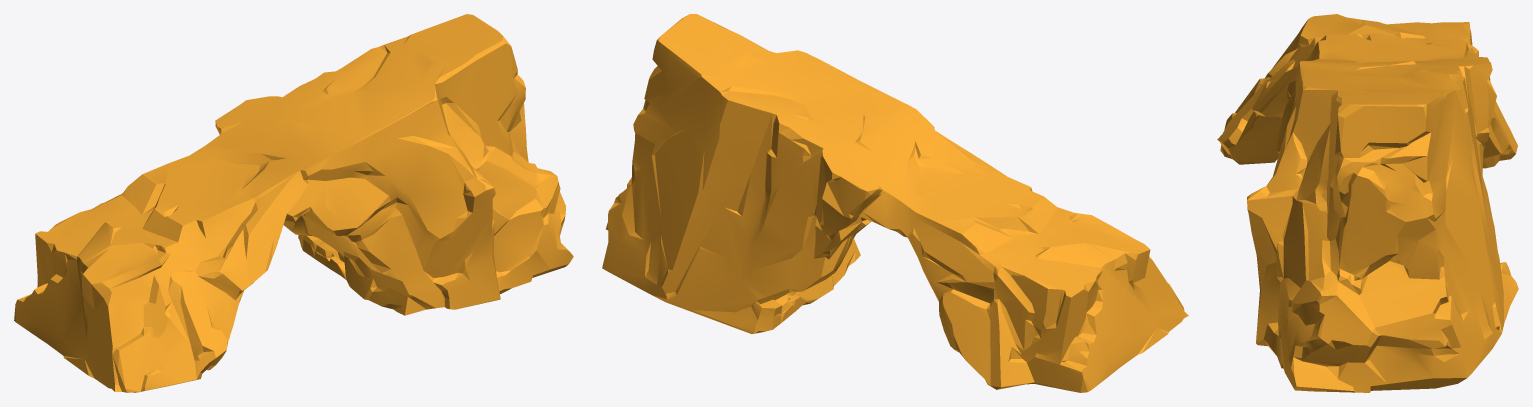
The model's file is SM_Iceberg_Medium_E.fbx.
3 renders of one model, left to right at view 1: azimuth 30°, elevation 25°; view 2: azimuth 150°, elevation 25°; view 3: azimuth 270°, elevation 25°, orthographic. The views are drawn at different scales.
Visible parts, largest first — view 1: iceberg-medium-e; view 2: iceberg-medium-e; view 3: iceberg-medium-e.
Part boxes in pixels (x1=…): iceberg-medium-e: x1=14, y1=14, x2=573, y2=392; iceberg-medium-e: x1=602, y1=14, x2=1188, y2=392; iceberg-medium-e: x1=1217, y1=14, x2=1518, y2=392.
Bounding box in the file's own units: 20.46 × 9.34 × 9.27.
